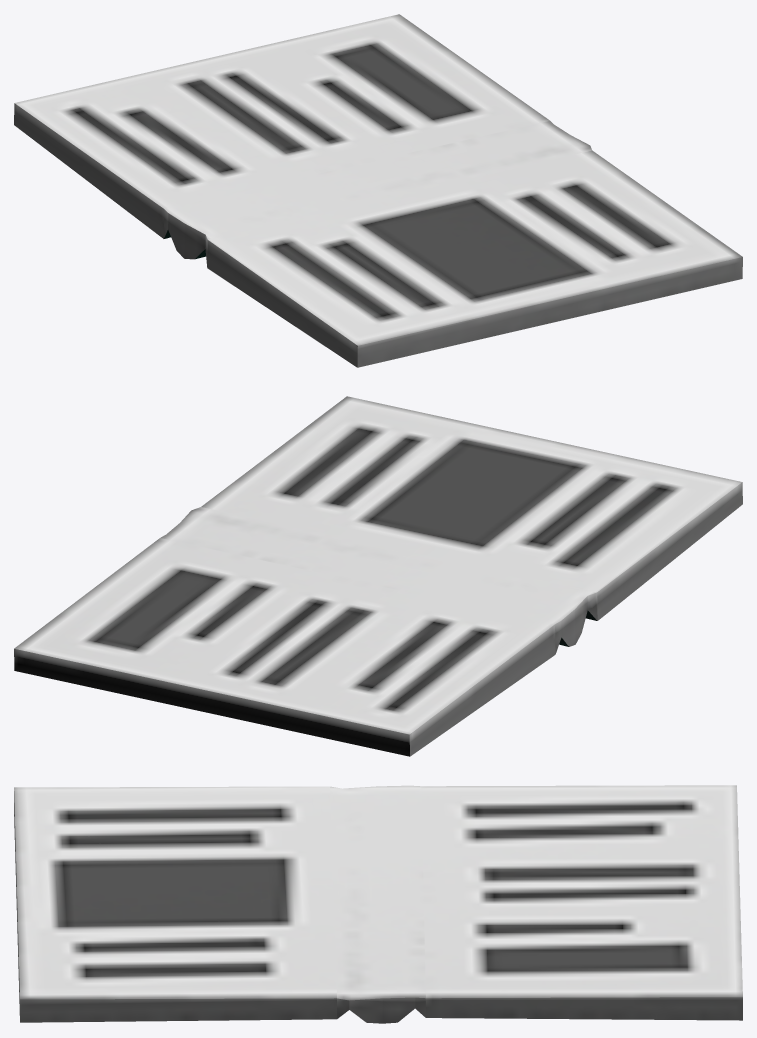
The model's file is Tx_prop_Medical_flat_book.fbx.
3 renders of one model, top to bottom at view 1: azimuth 30°, elevation 25°; view 2: azimuth 150°, elevation 25°; view 3: azimuth 270°, elevation 25°, orthographic. The views are drawn at different scales.
Parts seen in each view (by area): view 1: Tx_prop_Medical_flat_book; view 2: Tx_prop_Medical_flat_book; view 3: Tx_prop_Medical_flat_book.
Part boxes in pixels (bbox=[...]): Tx_prop_Medical_flat_book: bbox=[14, 14, 742, 367]; Tx_prop_Medical_flat_book: bbox=[14, 396, 742, 756]; Tx_prop_Medical_flat_book: bbox=[14, 785, 742, 1023].
Size of the model in its own units: 3.2 by 0.276 by 4.75.
